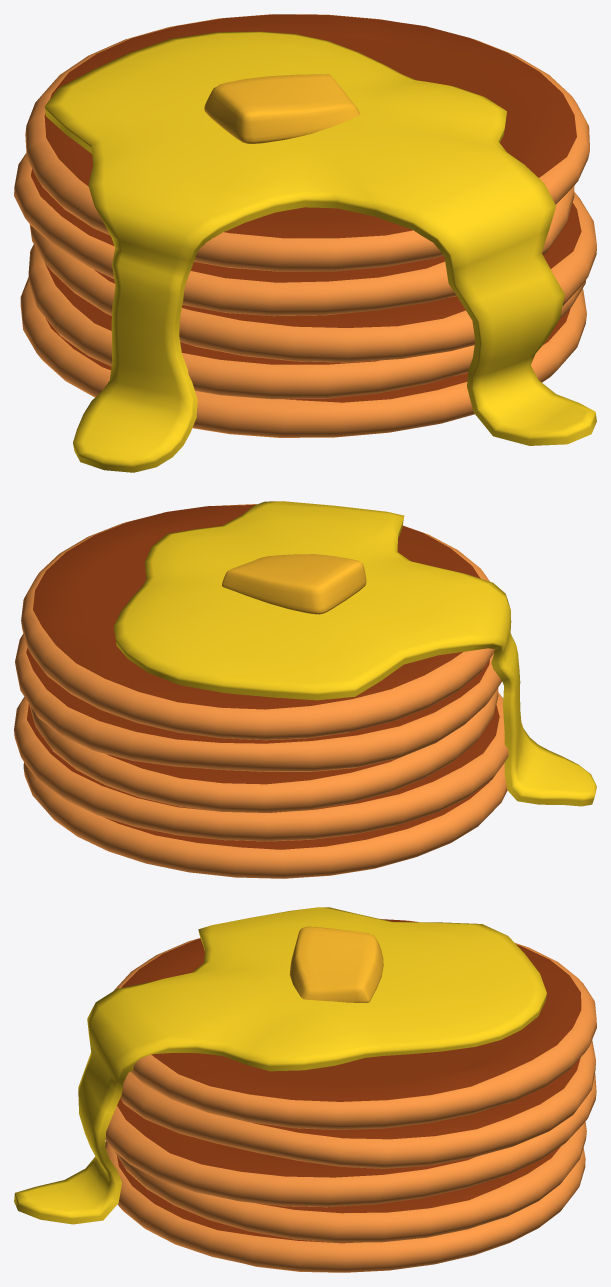
The model's file is Pancakes.fbx.
The picture shows the model from 3 angles, top to bottom: view 1: azimuth 30°, elevation 25°; view 2: azimuth 150°, elevation 25°; view 3: azimuth 270°, elevation 25°; orthographic projection. The views are drawn at different scales.
Visible parts, largest first — view 1: Syrup, pancake004, pancake002, pancake003, pancake, pancake001, Butter; view 2: Syrup, pancake004, pancake003, pancake001, pancake, pancake002, Butter; view 3: Syrup, pancake004, pancake002, pancake003, pancake001, pancake, Butter.
Boxes of the visible parts, bbox=[...] form: Syrup: bbox=[44, 31, 596, 472]; pancake004: bbox=[25, 14, 589, 271]; pancake002: bbox=[29, 192, 596, 362]; pancake003: bbox=[14, 153, 574, 316]; pancake: bbox=[20, 277, 586, 437]; pancake001: bbox=[28, 244, 585, 399]; Butter: bbox=[204, 74, 359, 143]; Syrup: bbox=[113, 501, 596, 806]; pancake004: bbox=[21, 504, 494, 740]; pancake003: bbox=[15, 633, 502, 771]; pancake001: bbox=[14, 692, 508, 841]; pancake: bbox=[23, 762, 507, 878]; pancake002: bbox=[29, 688, 498, 812]; Butter: bbox=[222, 554, 366, 614]; Syrup: bbox=[14, 907, 546, 1224]; pancake004: bbox=[114, 919, 596, 1130]; pancake002: bbox=[105, 1073, 596, 1207]; pancake003: bbox=[120, 1040, 595, 1168]; pancake001: bbox=[114, 1121, 586, 1242]; pancake: bbox=[105, 1141, 585, 1272]; Butter: bbox=[289, 926, 383, 1002].
Size of the model in its own units: 21.68 by 9.88 by 23.11.
